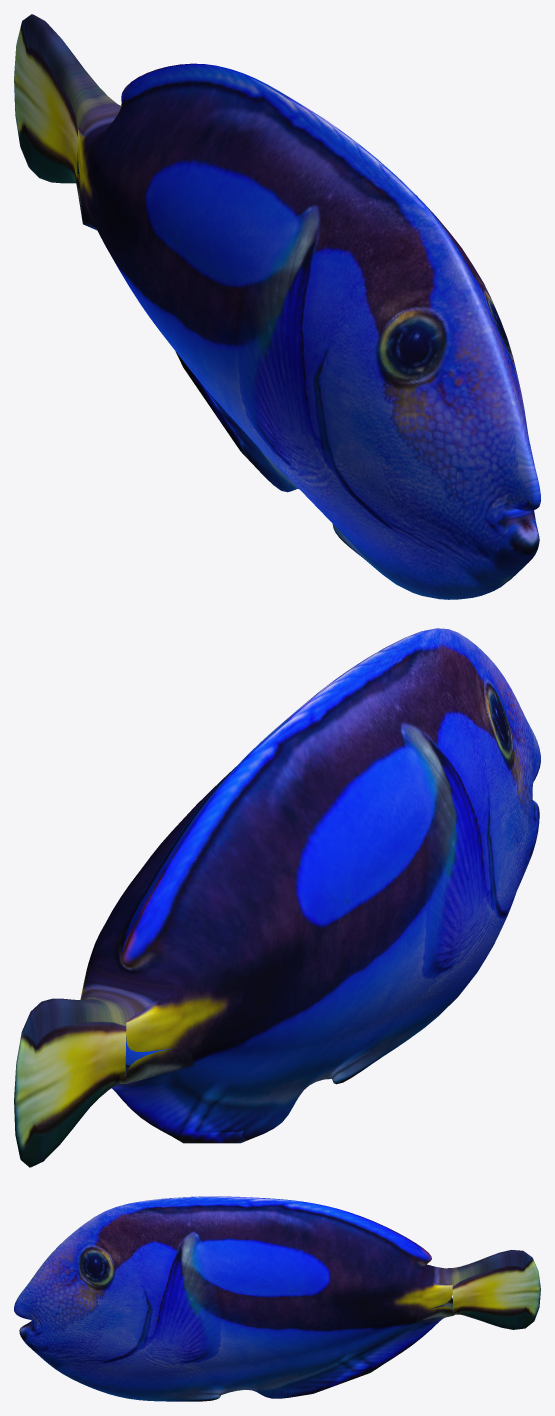
File: Dori.fbx
The picture shows the model from 3 angles, top to bottom: view 1: azimuth 30°, elevation 25°; view 2: azimuth 150°, elevation 25°; view 3: azimuth 270°, elevation 25°; orthographic projection. The views are drawn at different scales.
Parts seen in each view (by area): view 1: peixe; view 2: peixe; view 3: peixe.
Boxes of the visible parts, left/top/right/bottom form: peixe: left=14, top=14, right=540, bottom=599; peixe: left=14, top=628, right=540, bottom=1167; peixe: left=14, top=1196, right=540, bottom=1401.
Size of the model in its own units: 1.54 by 7.45 by 3.2.
